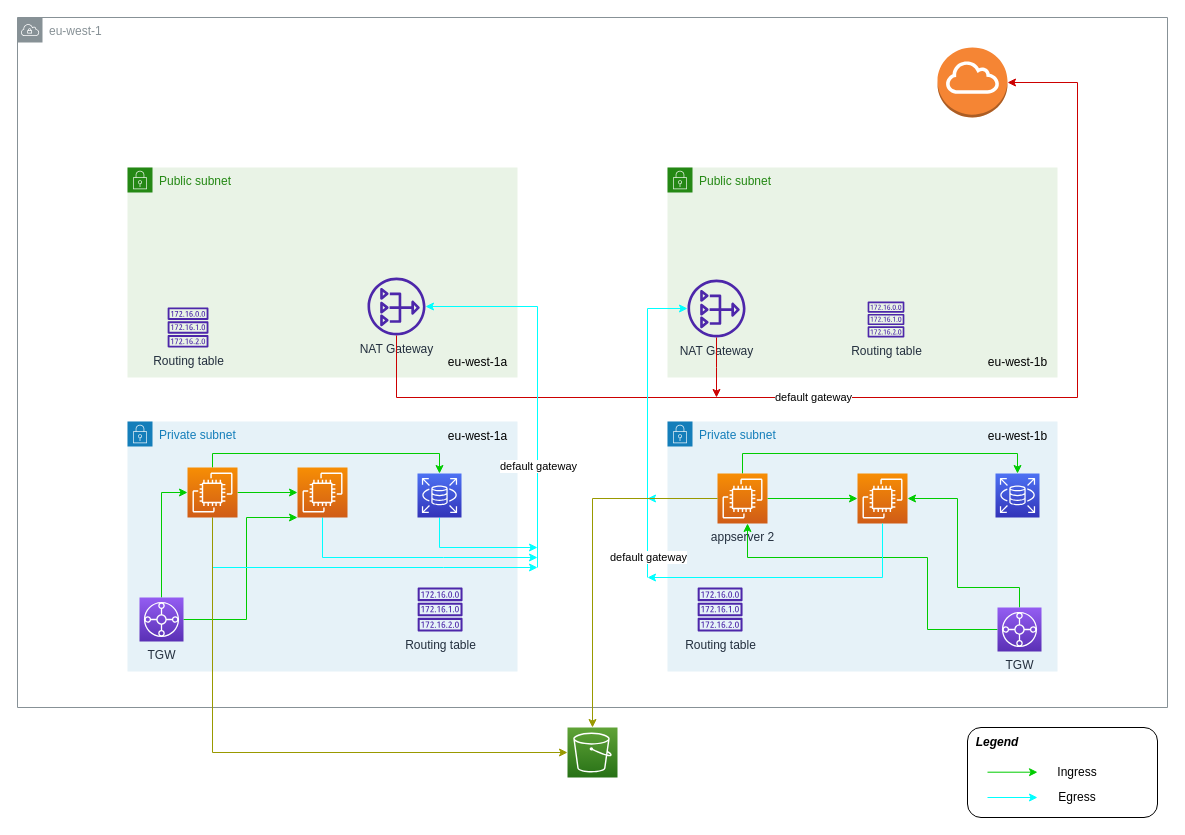
Some shapes in this 1185 by 835 pixel diagram are drawn without their labels. The shapes that lost their labels are listed below. From the top down, each one's centre as x and y in pixels, then its label:
the point at 972,82: Internet Gateway
the point at 212,492: appserver 1
the point at 322,492: runner 1
the point at 439,495: Postgres-1
the point at 882,498: runner 2
the point at 1017,495: Postgres-2
the point at 592,752: S3 Files
